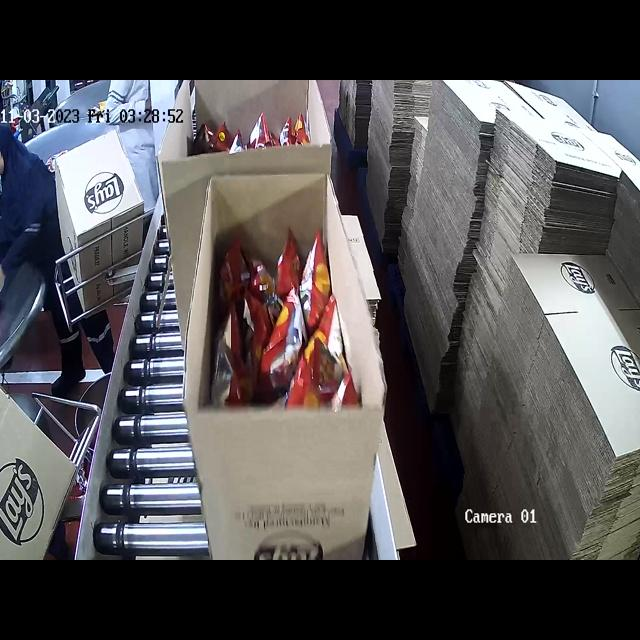masala: (218, 232, 356, 409), (188, 107, 321, 150)
